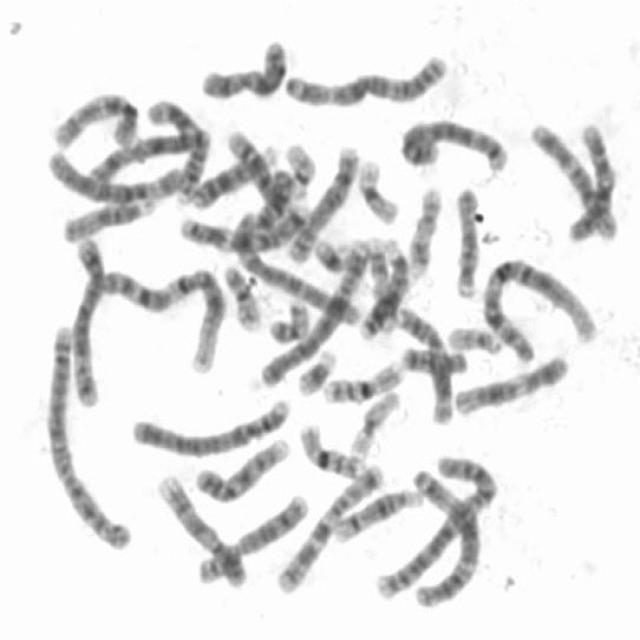A1: (78, 258, 228, 378), (476, 248, 600, 363)
A2: (39, 316, 135, 554), (368, 448, 498, 603)
A3: (406, 459, 483, 610), (279, 45, 452, 109)
B4: (252, 233, 376, 391), (125, 390, 293, 460)
B5: (394, 110, 512, 174), (67, 230, 109, 409)
C10: (563, 114, 618, 245), (47, 83, 143, 151)
C11: (390, 301, 456, 426), (141, 90, 210, 204)
C12: (524, 116, 622, 242), (450, 346, 575, 419)
C6: (229, 202, 366, 328), (42, 142, 189, 206)
C7: (273, 455, 388, 596), (174, 198, 312, 255)
C8: (190, 487, 312, 587), (284, 139, 362, 265)
C9: (152, 467, 250, 591), (189, 428, 293, 505)
D13: (185, 135, 281, 211), (356, 234, 412, 342)
D14: (331, 480, 425, 544), (230, 130, 293, 220)
D15: (57, 192, 158, 245), (448, 178, 482, 301)
E16: (294, 414, 368, 481), (317, 354, 406, 406)
E17: (356, 222, 399, 325), (404, 178, 445, 280)
E18: (252, 163, 295, 233), (396, 340, 470, 378)
F19: (344, 383, 402, 460), (353, 151, 403, 226)
F20: (218, 258, 264, 332), (263, 291, 314, 346)
G21: (290, 340, 339, 398), (309, 232, 353, 275)
G22: (443, 318, 505, 356), (280, 135, 320, 193)
X: (84, 118, 210, 186), (194, 31, 289, 102)
